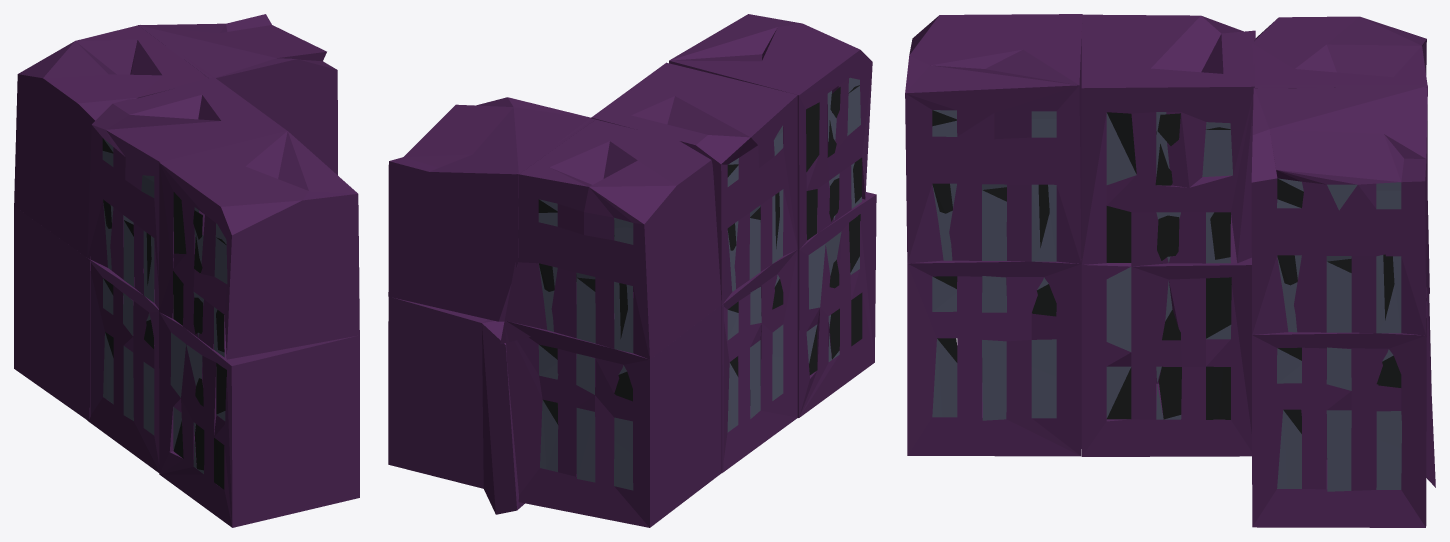
The model's file is house4.fbx.
3 views of the same model, side by side, from view 1: azimuth 30°, elevation 25°; view 2: azimuth 150°, elevation 25°; view 3: azimuth 270°, elevation 25° (orthographic). The views are drawn at different scales.
Visible parts, largest first — view 1: Cube.002; view 2: Cube.002; view 3: Cube.002.
Boxes of the visible parts, x1,y1,x2,y2 form: Cube.002: [14, 14, 359, 527]; Cube.002: [388, 14, 876, 527]; Cube.002: [905, 14, 1435, 527].
Bounding box in the file's own units: 995 × 1241 × 1516.
